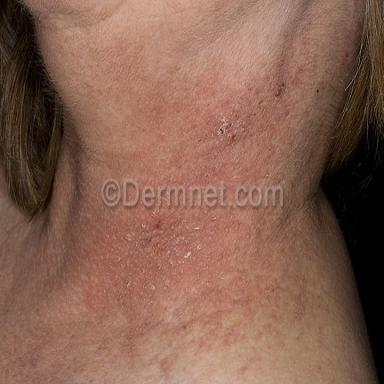Darier_s-Disease: (78, 205, 312, 380), (101, 22, 324, 183)
